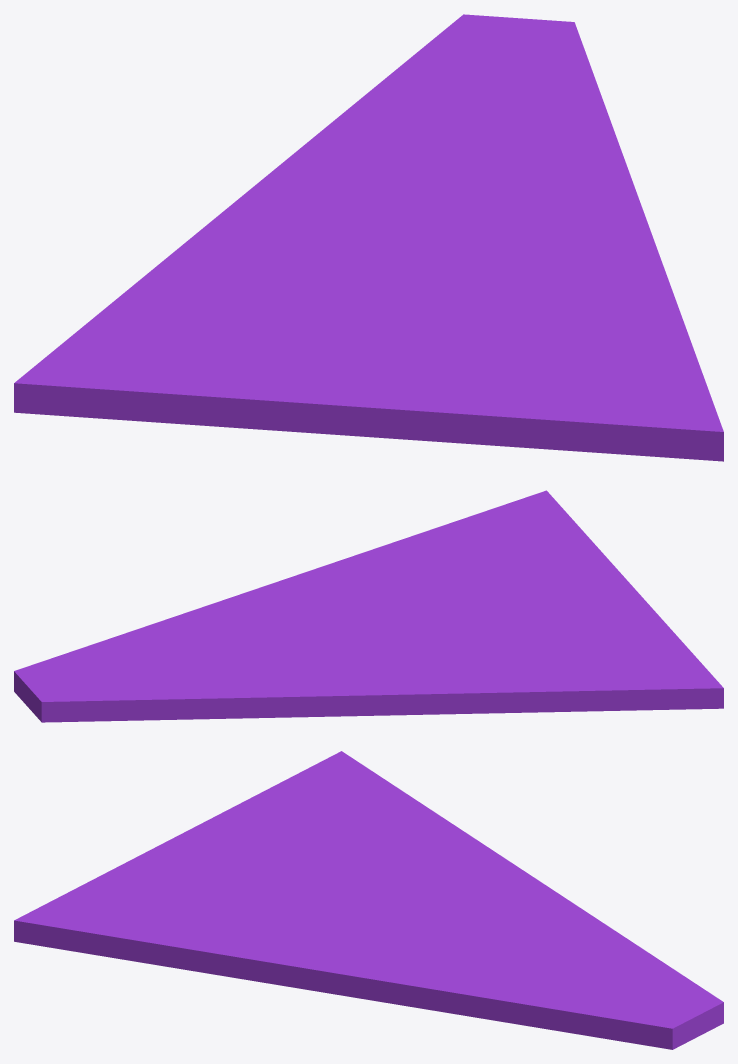
The model's file is StairsStep_22.fbx.
The picture shows the model from 3 angles, top to bottom: view 1: azimuth 30°, elevation 25°; view 2: azimuth 150°, elevation 25°; view 3: azimuth 270°, elevation 25°; orthographic projection. The views are drawn at different scales.
Parts seen in each view (by area): view 1: StairsStep_22; view 2: StairsStep_22; view 3: StairsStep_22.
Boxes of the visible parts, <box> form: StairsStep_22: <box>14,14,723,461</box>; StairsStep_22: <box>14,490,723,722</box>; StairsStep_22: <box>14,751,723,1049</box>.
Size of the model in its own units: 504 by 17.94 by 544.
